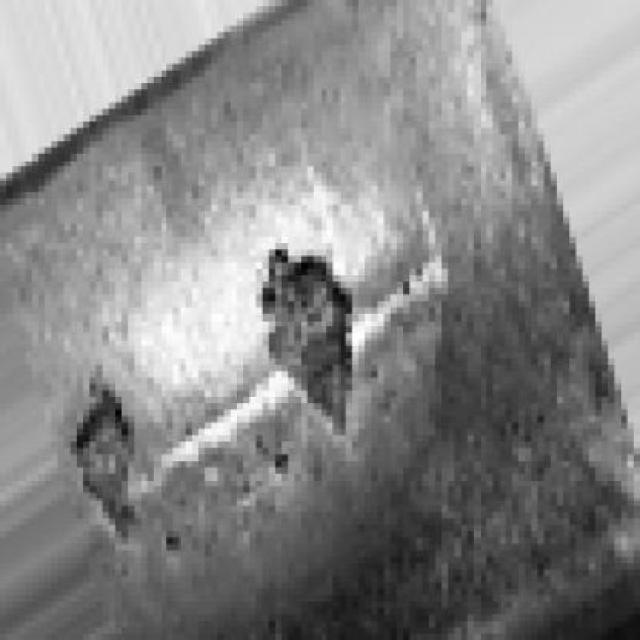defective: (1, 108, 486, 609)
